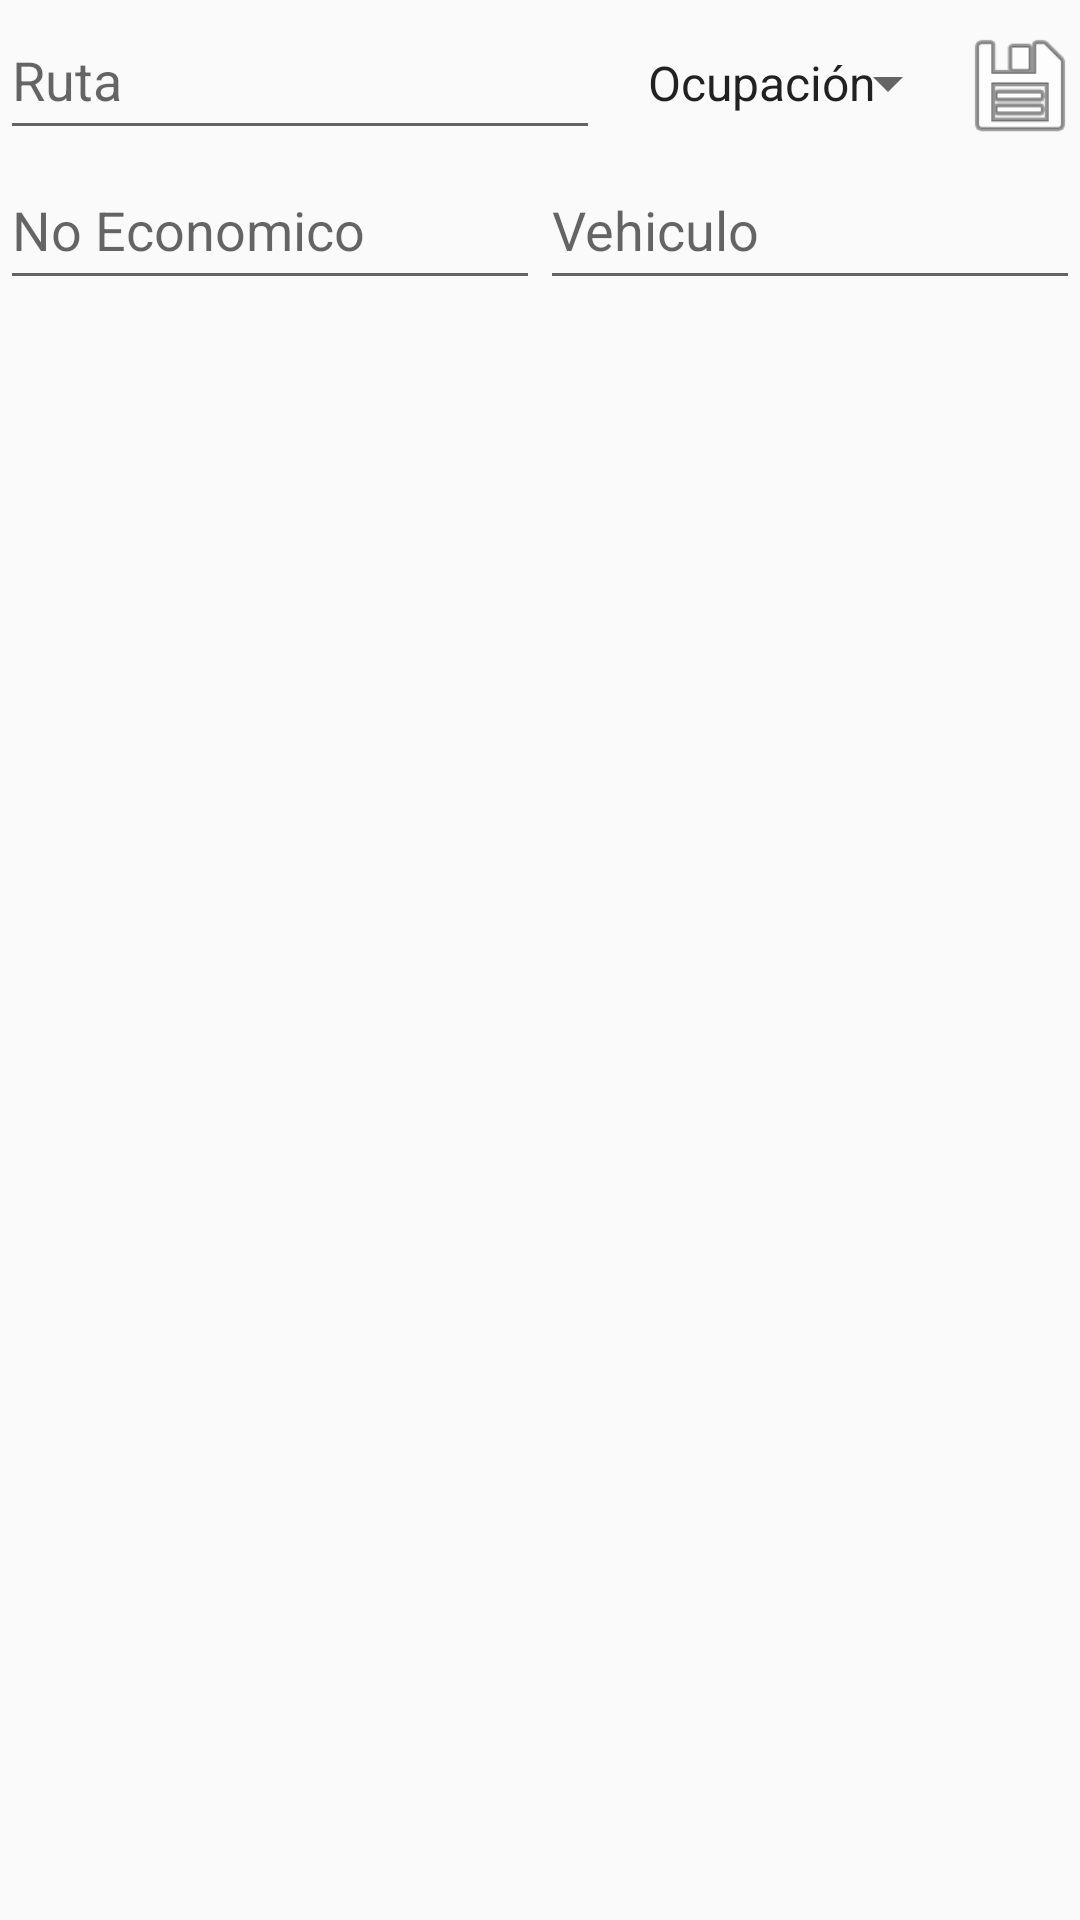

Where icons sit on this 1080*1920 app screen, as {"x1": x1, "y1": y1, "x2": x2, "y2": y2}:
save: {"x1": 975, "y1": 40, "x2": 1065, "y2": 132}
